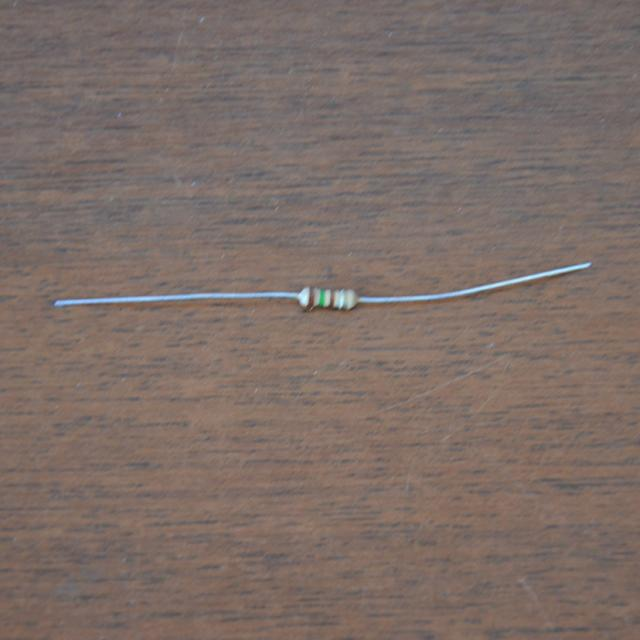brown: (329, 290, 335, 306), (309, 289, 314, 305)
gold: (343, 289, 348, 307)
green: (320, 289, 324, 305)
resistor: (295, 285, 363, 316)
